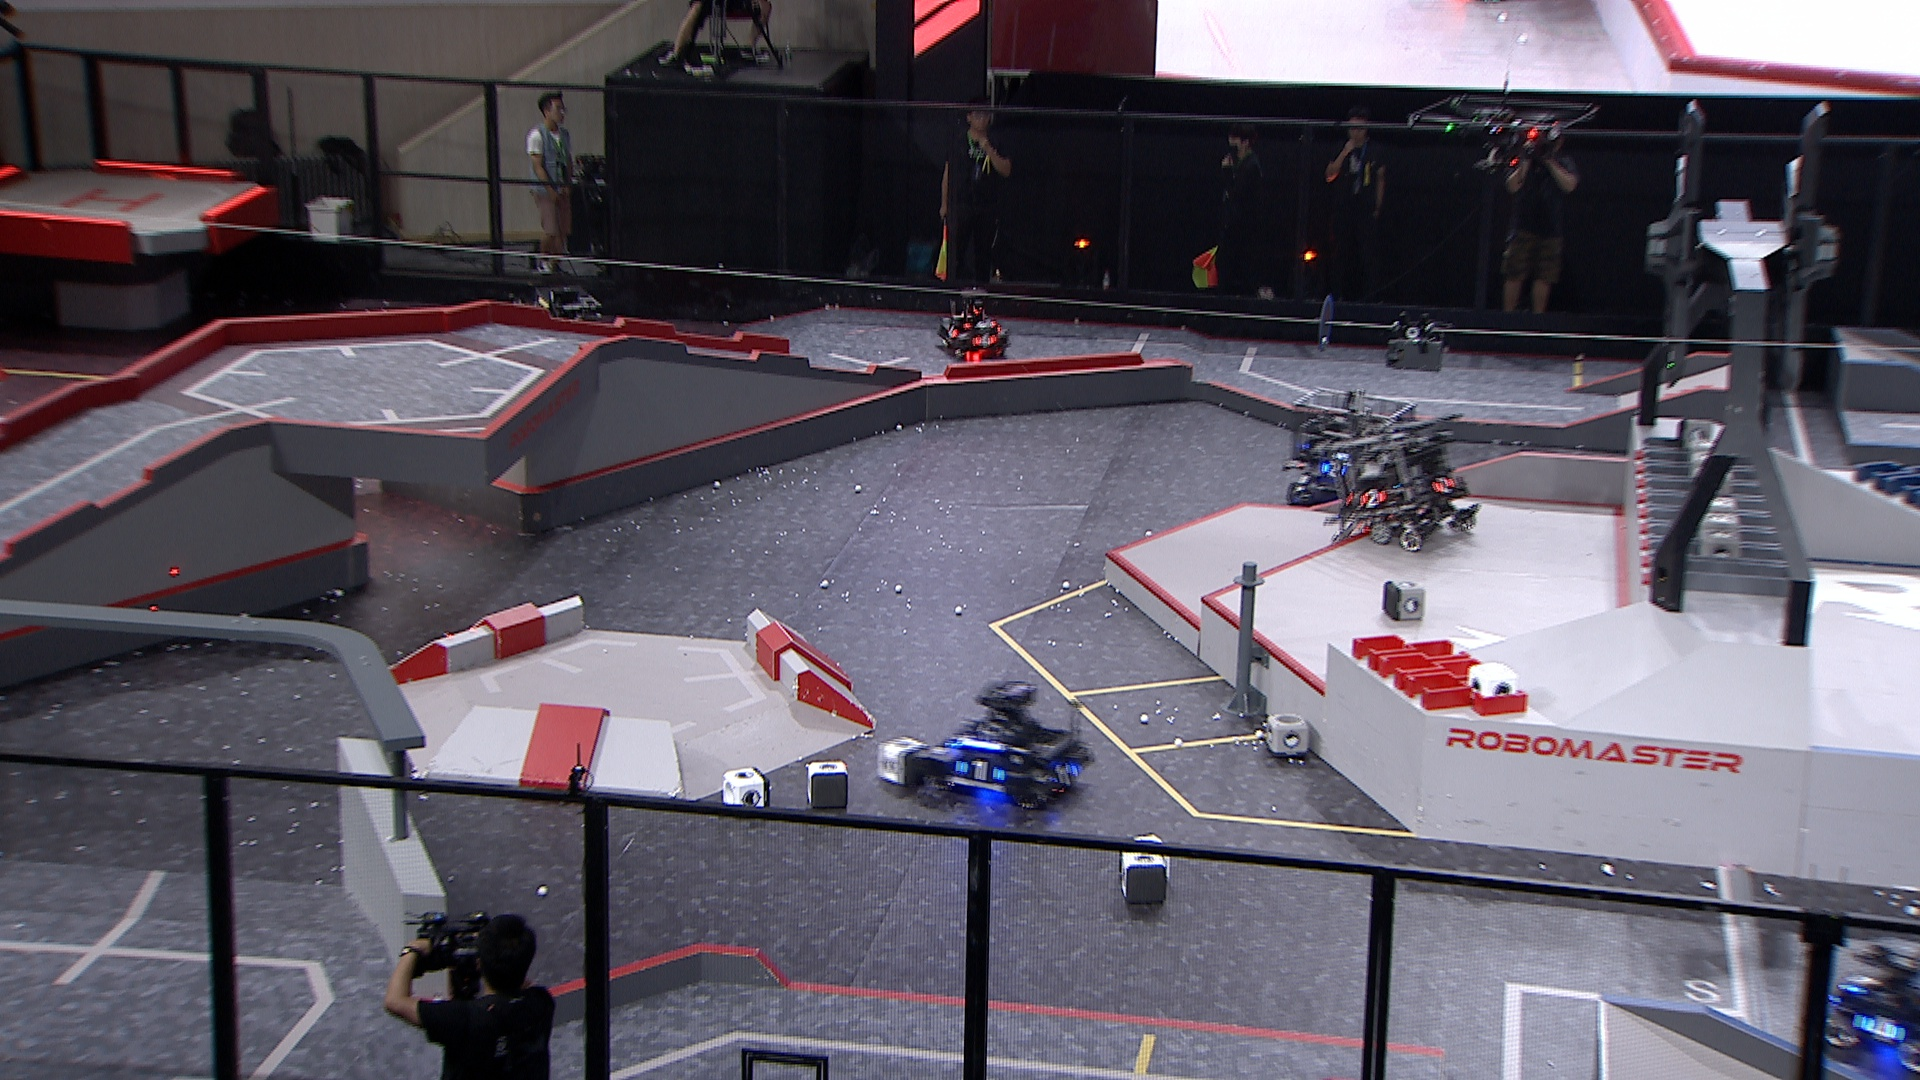armor: (1851, 1011, 1908, 1048), (955, 757, 1005, 785), (1837, 972, 1887, 996), (1048, 764, 1081, 796), (1357, 488, 1389, 513), (1432, 477, 1458, 495), (963, 320, 1000, 332), (1321, 460, 1342, 480), (969, 334, 998, 347), (944, 324, 959, 342)
car: (920, 676, 1096, 812), (1313, 413, 1480, 551), (1286, 389, 1422, 514), (1822, 945, 1920, 1076), (524, 284, 604, 367), (935, 287, 1011, 360)
